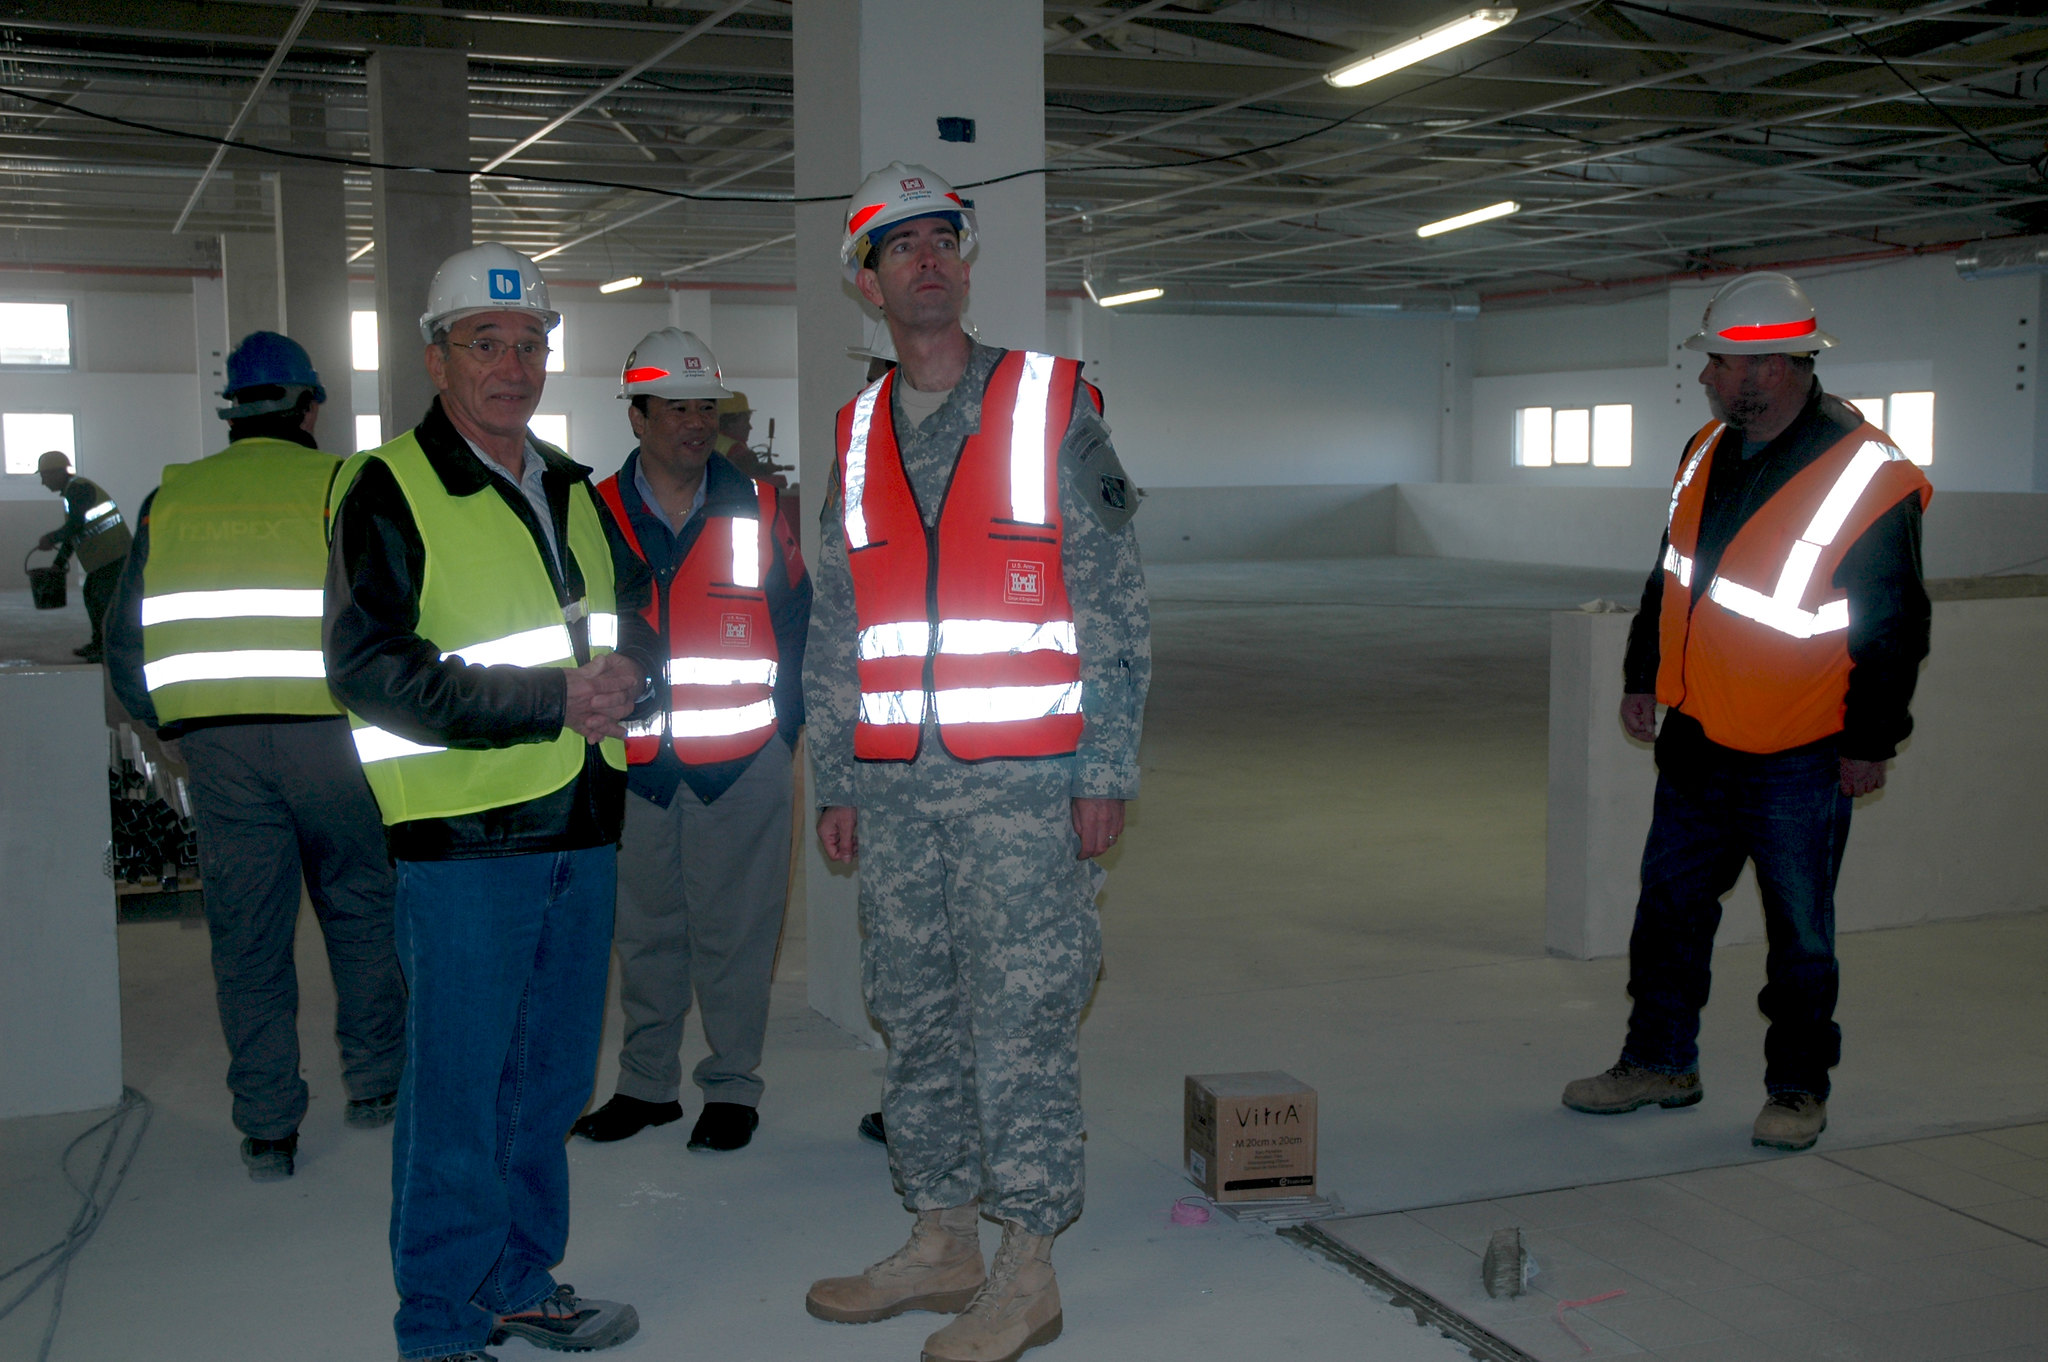Helmet: (820, 146, 1026, 385), (393, 230, 570, 451), (1676, 258, 1857, 461), (600, 315, 773, 485), (201, 322, 349, 483), (27, 447, 77, 479)
Reflective vest: (330, 413, 637, 847), (826, 344, 1124, 777), (1638, 412, 1943, 762), (588, 447, 813, 798), (143, 435, 352, 739), (61, 471, 137, 581)
